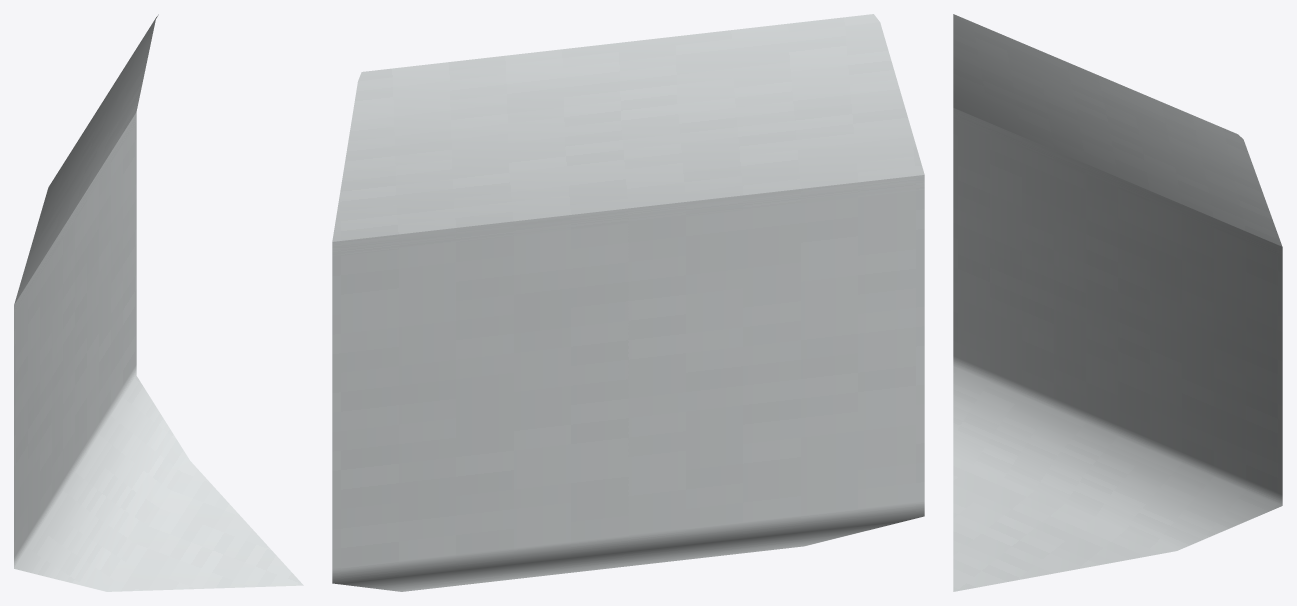
File: spheroid_medium_1_0_0.obj
3 views of the same model, side by side, from view 1: azimuth 30°, elevation 25°; view 2: azimuth 150°, elevation 25°; view 3: azimuth 270°, elevation 25° (orthographic). The views are drawn at different scales.
Parts seen in each view (by area): view 1: spheroid_medium_1_0_0; view 2: spheroid_medium_1_0_0; view 3: spheroid_medium_1_0_0.
Boxes of the visible parts, x1=… form: spheroid_medium_1_0_0: x1=14, y1=14, x2=303, y2=591; spheroid_medium_1_0_0: x1=332, y1=14, x2=924, y2=591; spheroid_medium_1_0_0: x1=953, y1=14, x2=1282, y2=591.
Size of the model in its own units: 1.32 by 2.03 by 1.32.
